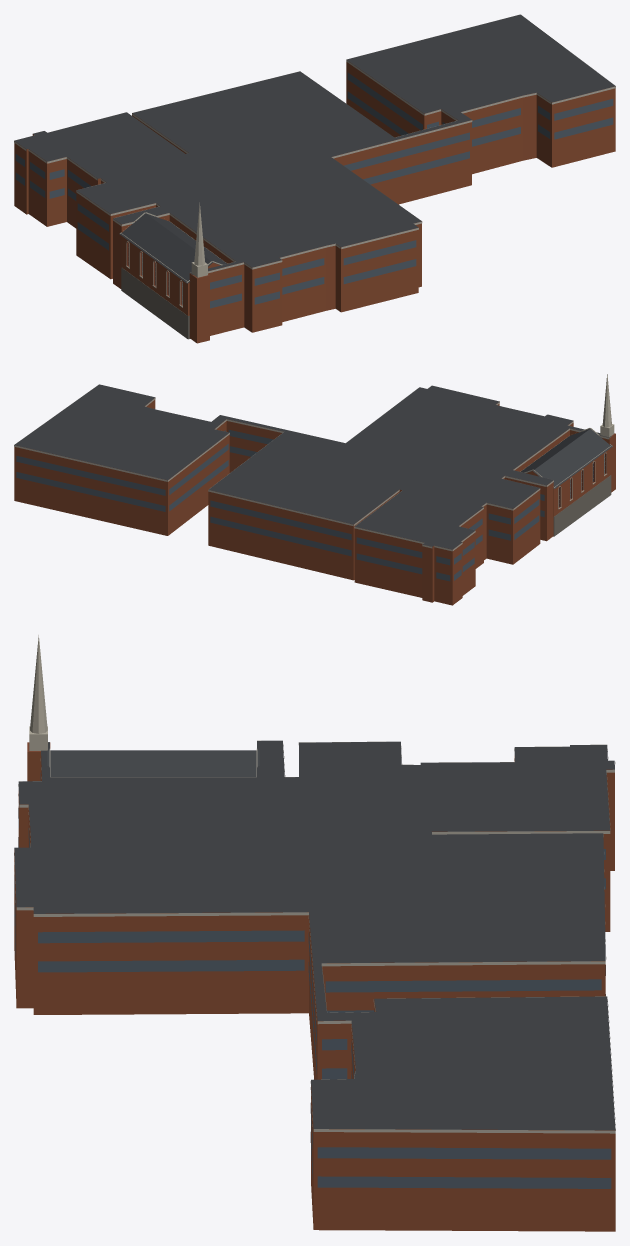
File: park-hill-baptist-nlr.glb
The picture shows the model from 3 angles, top to bottom: view 1: azimuth 30°, elevation 25°; view 2: azimuth 150°, elevation 25°; view 3: azimuth 270°, elevation 25°; orthographic projection. The views are drawn at different scales.
Visible parts, largest first — view 1: park_hill_baptist_nlr; view 2: park_hill_baptist_nlr; view 3: park_hill_baptist_nlr.
Part boxes in pixels (x1,y1,x2,y2): park_hill_baptist_nlr: (14, 14, 615, 343); park_hill_baptist_nlr: (14, 374, 615, 605); park_hill_baptist_nlr: (14, 635, 615, 1231).
Bounding box in the file's own units: 129 × 33.18 × 83.97.
